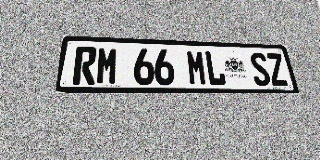6: (134, 48, 155, 85), (154, 49, 175, 85)
L: (204, 51, 227, 86)
M: (96, 47, 118, 85), (186, 50, 208, 85)
R: (72, 46, 97, 85)
S: (249, 52, 272, 86)
Z: (265, 53, 289, 86)
